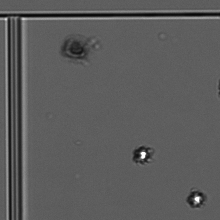Dead Cell: (57, 32, 92, 67)
Living Cell: (183, 182, 210, 214), (130, 138, 159, 166)
